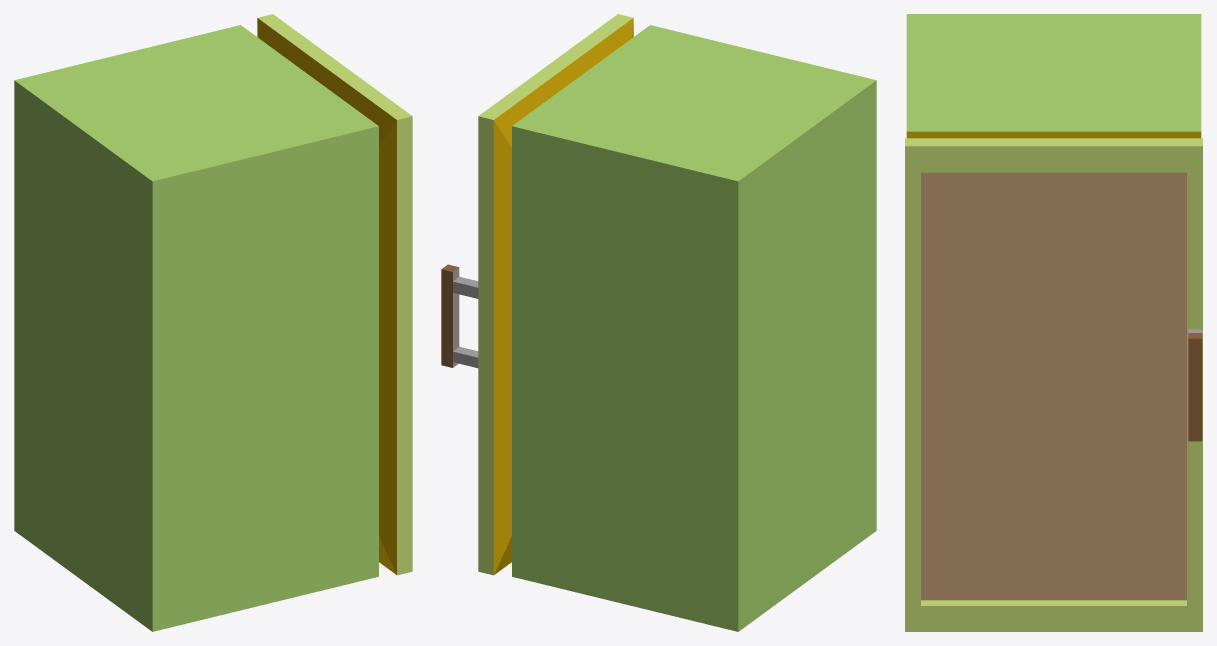
The model's file is fridge_minimart.fbx.
3 views of the same model, side by side, from view 1: azimuth 30°, elevation 25°; view 2: azimuth 150°, elevation 25°; view 3: azimuth 270°, elevation 25° (orthographic). The views are drawn at different scales.
Parts seen in each view (by area): view 1: pCube51; view 2: pCube51; view 3: pCube51.
Boxes of the visible parts, box(x1,y1,x2,y2) form: pCube51: box(14, 14, 412, 631); pCube51: box(441, 14, 876, 631); pCube51: box(905, 14, 1202, 631).
Size of the model in its own units: 11.94 by 17.51 by 9.74.
